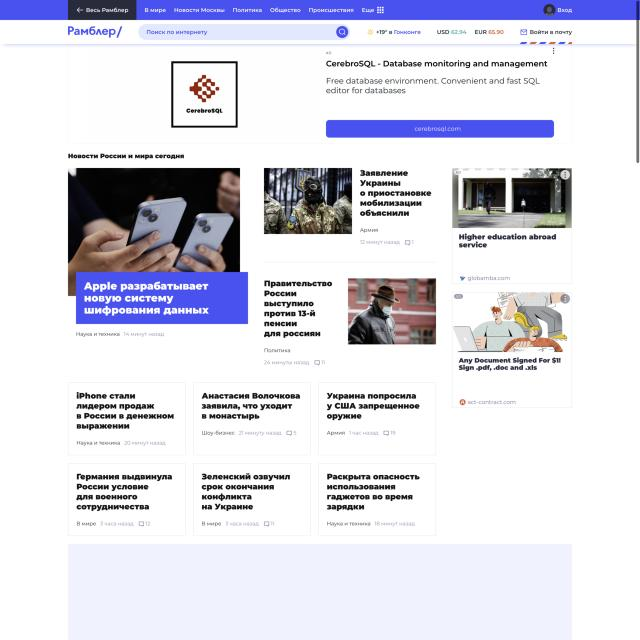CheckBox: (326, 119, 554, 138), (68, 1, 136, 20), (518, 27, 574, 45), (336, 25, 348, 39)
CheckedTextView: (138, 24, 350, 40)
ImageView: (69, 44, 572, 144), (451, 292, 572, 408), (452, 168, 572, 284)
Input field: (73, 387, 178, 431), (73, 438, 121, 447)
QR code: (364, 27, 504, 38)
RadioButton: (284, 426, 299, 439), (313, 358, 327, 368), (382, 429, 395, 437)
Spinner: (194, 462, 314, 538), (67, 462, 188, 536), (193, 382, 311, 456), (318, 381, 436, 455), (68, 381, 184, 455), (319, 464, 437, 536)
bag: (0, 0, 640, 44)
breadcrumbs: (67, 151, 186, 162)
copy: (264, 167, 354, 235)
date picker: (67, 24, 126, 39)
decoration: (141, 5, 386, 17)
footer: (146, 28, 207, 36)
image: (78, 272, 220, 323)
